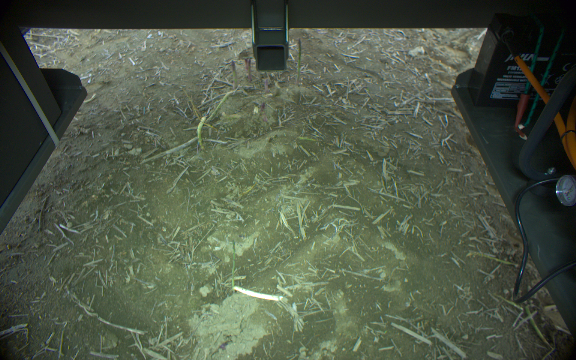aspa: (192, 109, 212, 157), (293, 37, 307, 87), (227, 58, 240, 94), (243, 56, 255, 84)
